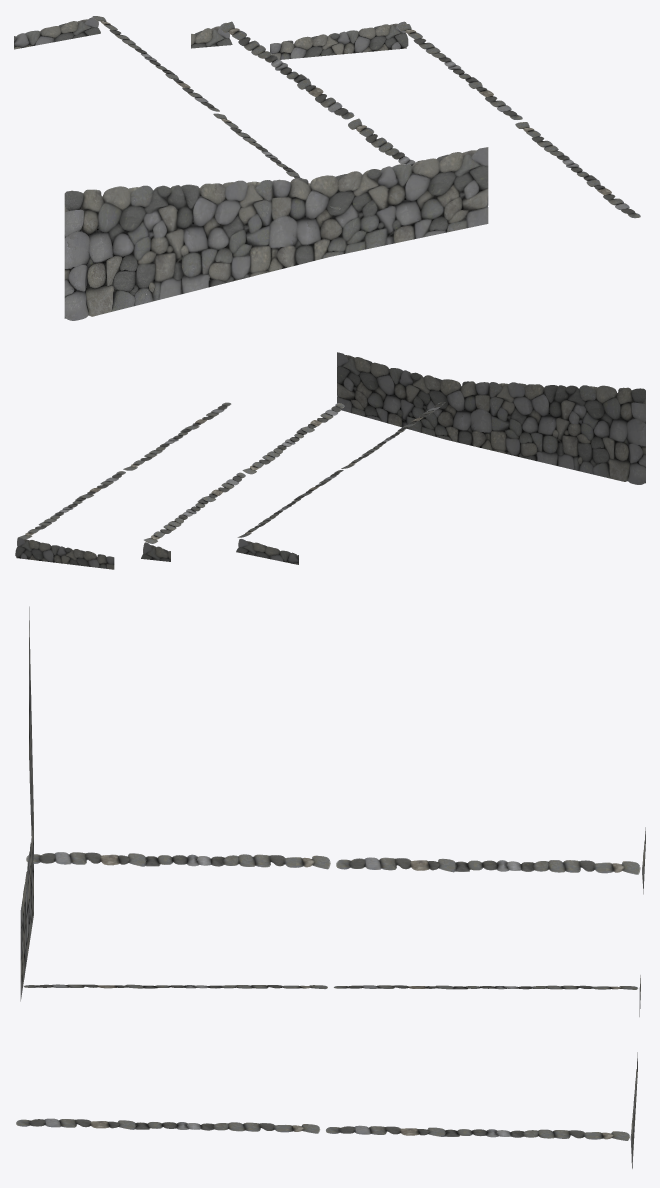
The model's file is hatake_stone.fbx.
3 views of the same model, one above another, from view 1: azimuth 30°, elevation 25°; view 2: azimuth 150°, elevation 25°; view 3: azimuth 270°, elevation 25° (orthographic). The views are drawn at different scales.
Visible parts, largest first — view 1: hatake_stone; view 2: hatake_stone; view 3: hatake_stone.
Part boxes in pixels (box(x1,y1,x2,y2)): hatake_stone: box(14, 16, 640, 320); hatake_stone: box(15, 352, 645, 569); hatake_stone: box(16, 606, 645, 1168).
Size of the model in its own units: 32.9 by 25.27 by 10.04.
